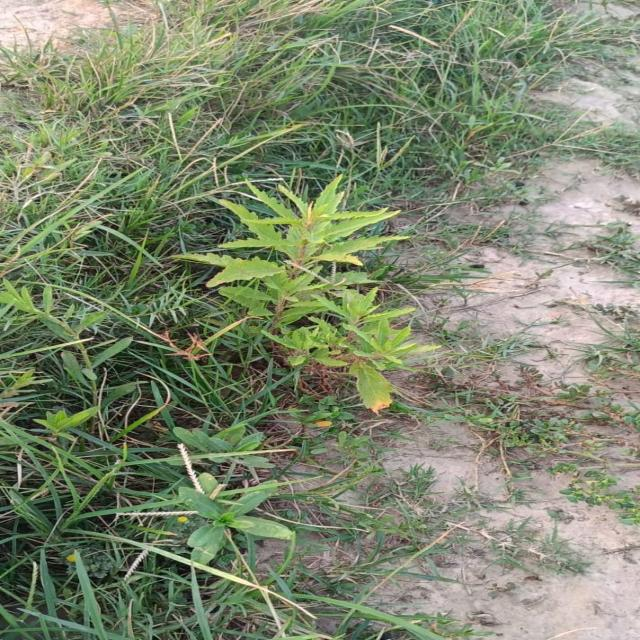weed: (174, 177, 437, 413)
